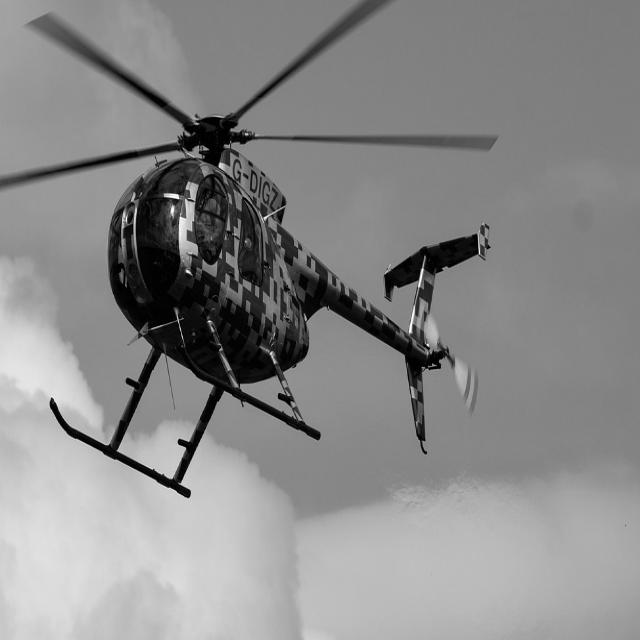helicopter: (1, 1, 507, 511)
